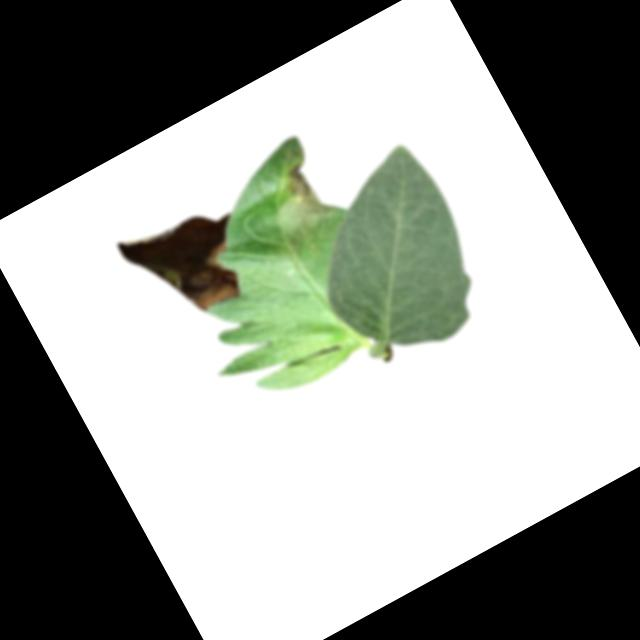Late_blight: (115, 188, 268, 337), (253, 157, 345, 255)
healthy: (276, 136, 506, 383)
